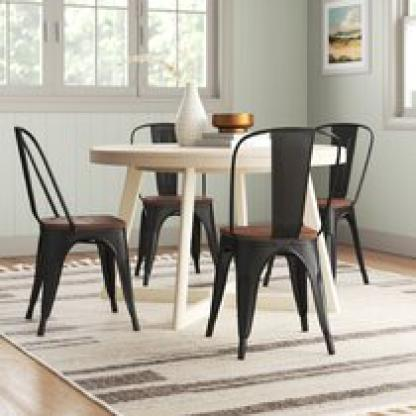chair: (217, 123, 336, 355), (10, 120, 128, 334), (129, 119, 222, 271), (319, 117, 391, 284)
